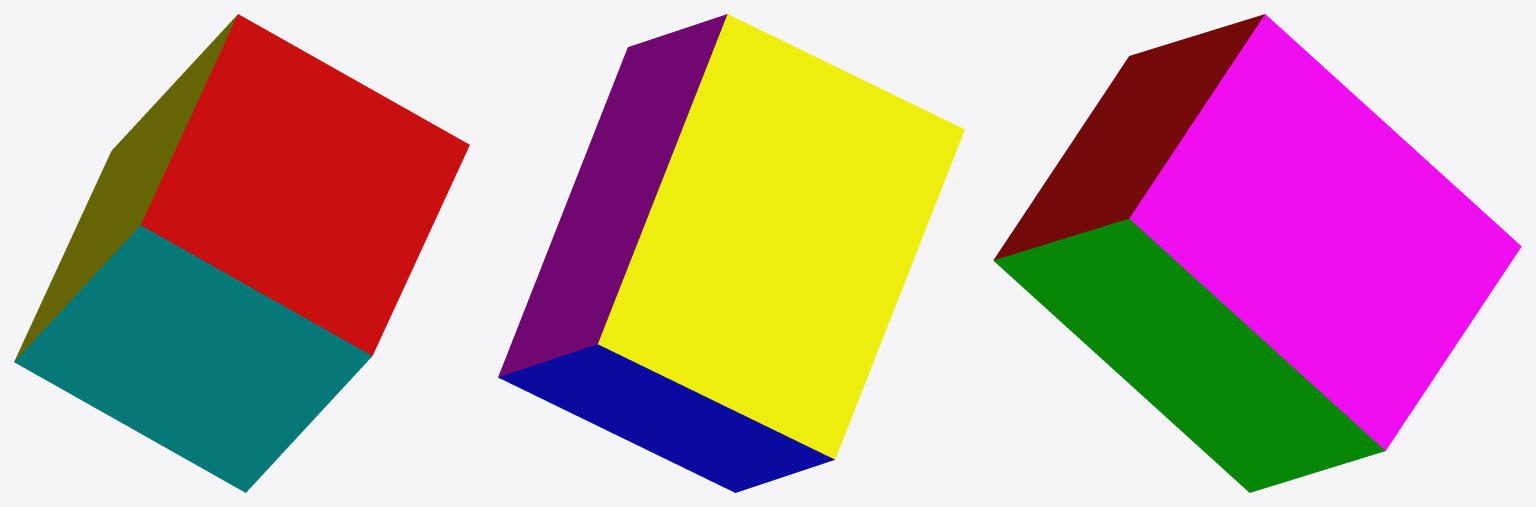
File: box_ani3.dae
3 renders of one model, left to right at view 1: azimuth 30°, elevation 25°; view 2: azimuth 150°, elevation 25°; view 3: azimuth 270°, elevation 25°, orthographic. The views are drawn at different scales.
Visible parts, largest first — view 1: box; view 2: box; view 3: box.
Boxes of the visible parts, x1,y1,x2,y2 form: box: (14, 14, 469, 492); box: (498, 14, 964, 492); box: (993, 14, 1521, 492).
Size of the model in its own units: 148 by 204 by 204.
